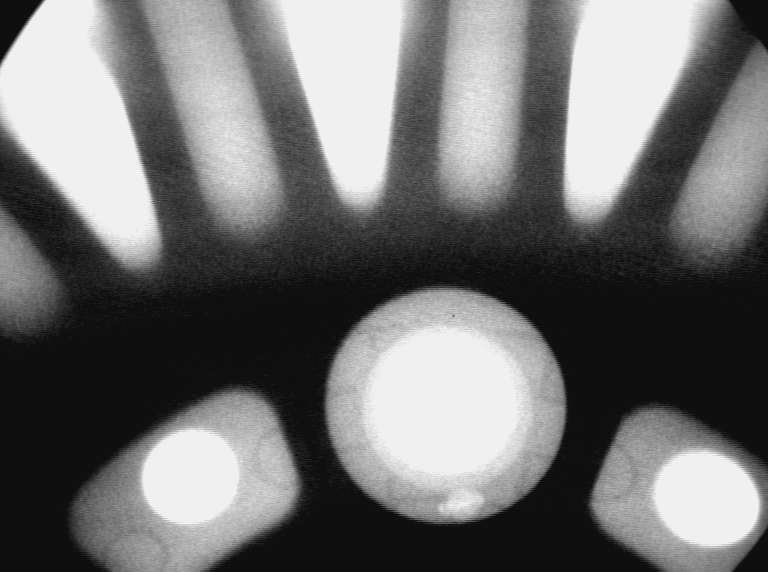defect: (443, 488, 482, 521)
